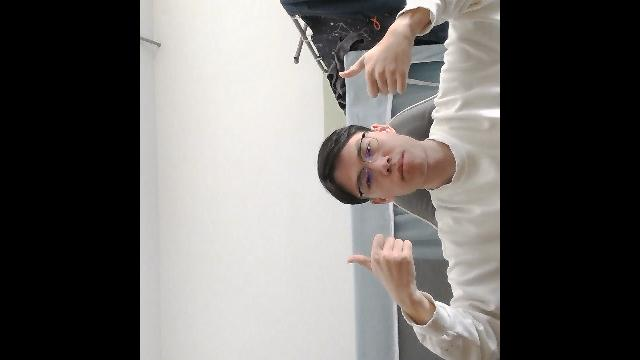good: (337, 21, 417, 104), (346, 230, 420, 308)
